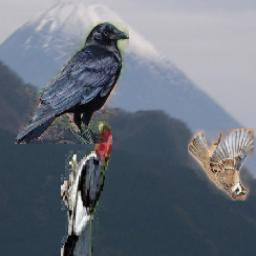Crow: (16, 21, 130, 144)
Sparrow: (189, 130, 255, 202)
Woodpecker: (62, 117, 113, 256)
